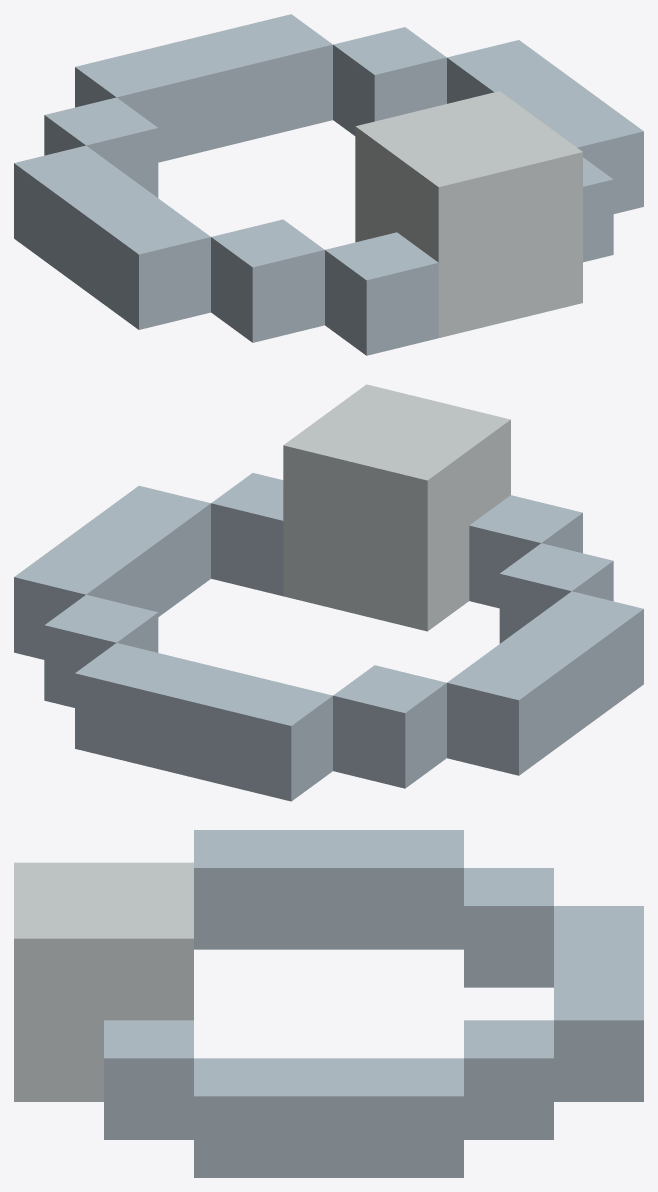
File: collar_estrella_mithril_01.glb
3 renders of one model, top to bottom at view 1: azimuth 30°, elevation 25°; view 2: azimuth 150°, elevation 25°; view 3: azimuth 270°, elevation 25°, orthographic. The views are drawn at different scales.
Visible parts, largest first — view 1: collar_estrella_mithril; view 2: collar_estrella_mithril; view 3: collar_estrella_mithril.
Part boxes in pixels (x1,y1,x2,y2): collar_estrella_mithril: (14,14,643,355); collar_estrella_mithril: (14,384,643,801); collar_estrella_mithril: (14,830,643,1177).
Bounding box in the file's own units: 0.5833 × 0.1667 × 0.5833.
